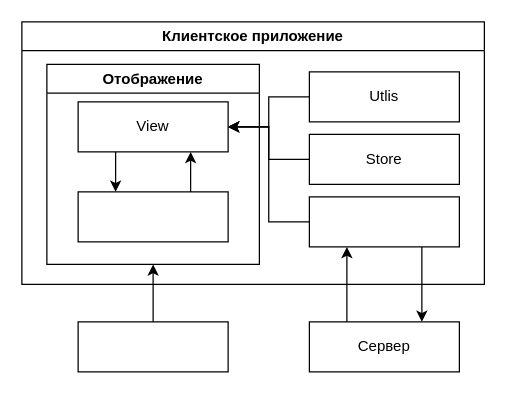
Some shapes in this 506 by 394 pixel diagram are drawn without their labels. Here are the shapes that lost their labels. From the top down, the centre of each, then its label:
pixel 152 216: Component
pixel 383 221: API
pixel 152 346: Пользователь
